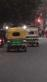Auto: (7, 26, 27, 54)
